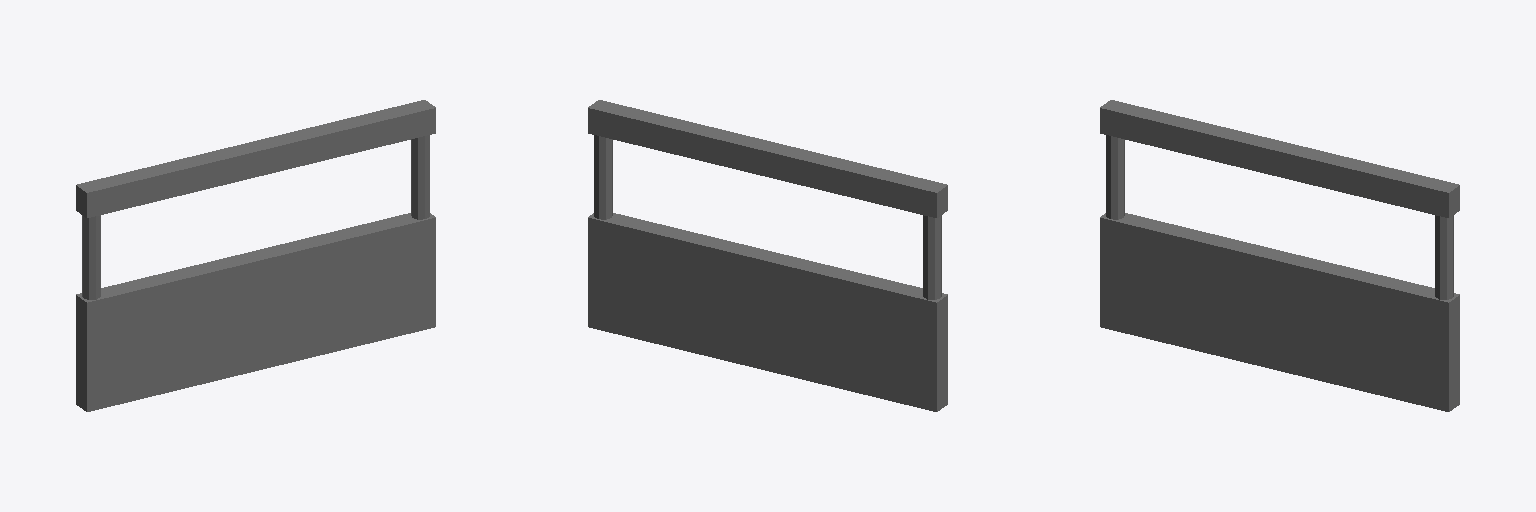
File: Barrier_2_Complete.obj
3 renders of one model, left to right at view 1: azimuth 30°, elevation 25°; view 2: azimuth 150°, elevation 25°; view 3: azimuth 330°, elevation 25°, orthographic.
Parts seen in each view (by area): view 1: polySurface5 Barrier1:pCube1, Barrier1:pCube1 polySurface4, pCylinder3 polySurface2, polySurface3 pCylinder3; view 2: polySurface5 Barrier1:pCube1, Barrier1:pCube1 polySurface4, pCylinder3 polySurface2, polySurface3 pCylinder3; view 3: polySurface5 Barrier1:pCube1, Barrier1:pCube1 polySurface4, polySurface3 pCylinder3, pCylinder3 polySurface2.
Part boxes in pixels (x1,y1,x2,y2): polySurface5 Barrier1:pCube1: (76, 213, 435, 411); Barrier1:pCube1 polySurface4: (76, 100, 435, 217); pCylinder3 polySurface2: (82, 215, 100, 299); polySurface3 pCylinder3: (411, 135, 429, 219); polySurface5 Barrier1:pCube1: (588, 213, 947, 411); Barrier1:pCube1 polySurface4: (588, 100, 947, 217); pCylinder3 polySurface2: (923, 215, 941, 299); polySurface3 pCylinder3: (594, 135, 612, 219); polySurface5 Barrier1:pCube1: (1100, 213, 1459, 411); Barrier1:pCube1 polySurface4: (1100, 100, 1459, 217); polySurface3 pCylinder3: (1435, 215, 1453, 299); pCylinder3 polySurface2: (1106, 135, 1124, 219).
Size of the model in its own units: 5 by 3 by 0.2805.